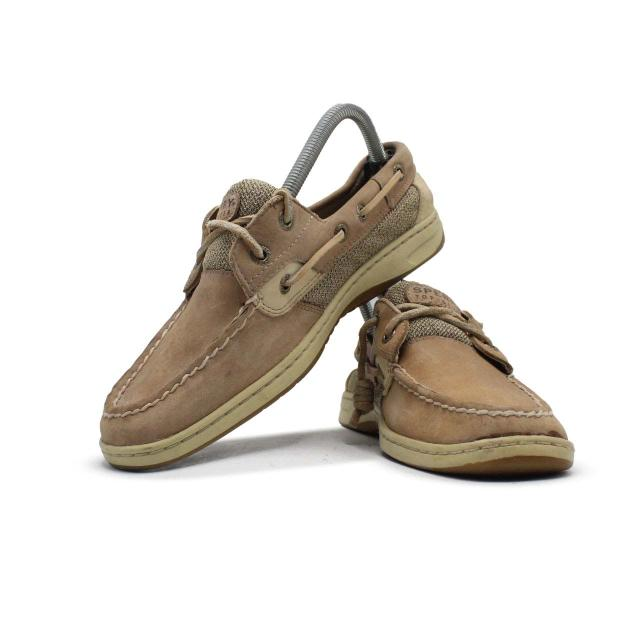heel: (376, 138, 432, 242)
midsole: (102, 210, 443, 476), (340, 391, 574, 471)
uppersole: (103, 177, 401, 448), (354, 281, 571, 449)
